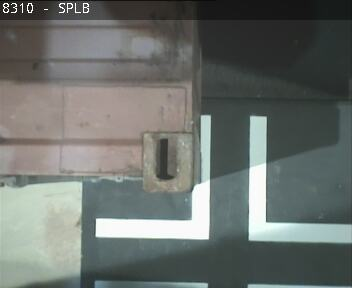groundmarker_1: (94, 117, 351, 244)
